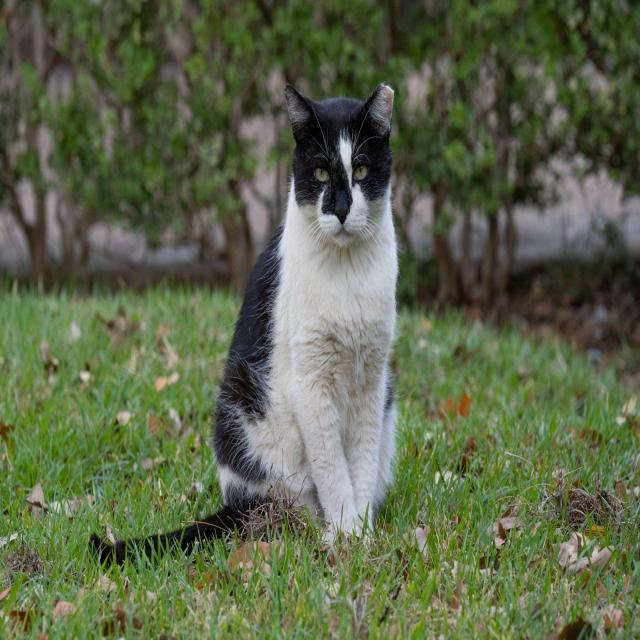Cat: (282, 75, 401, 258)
